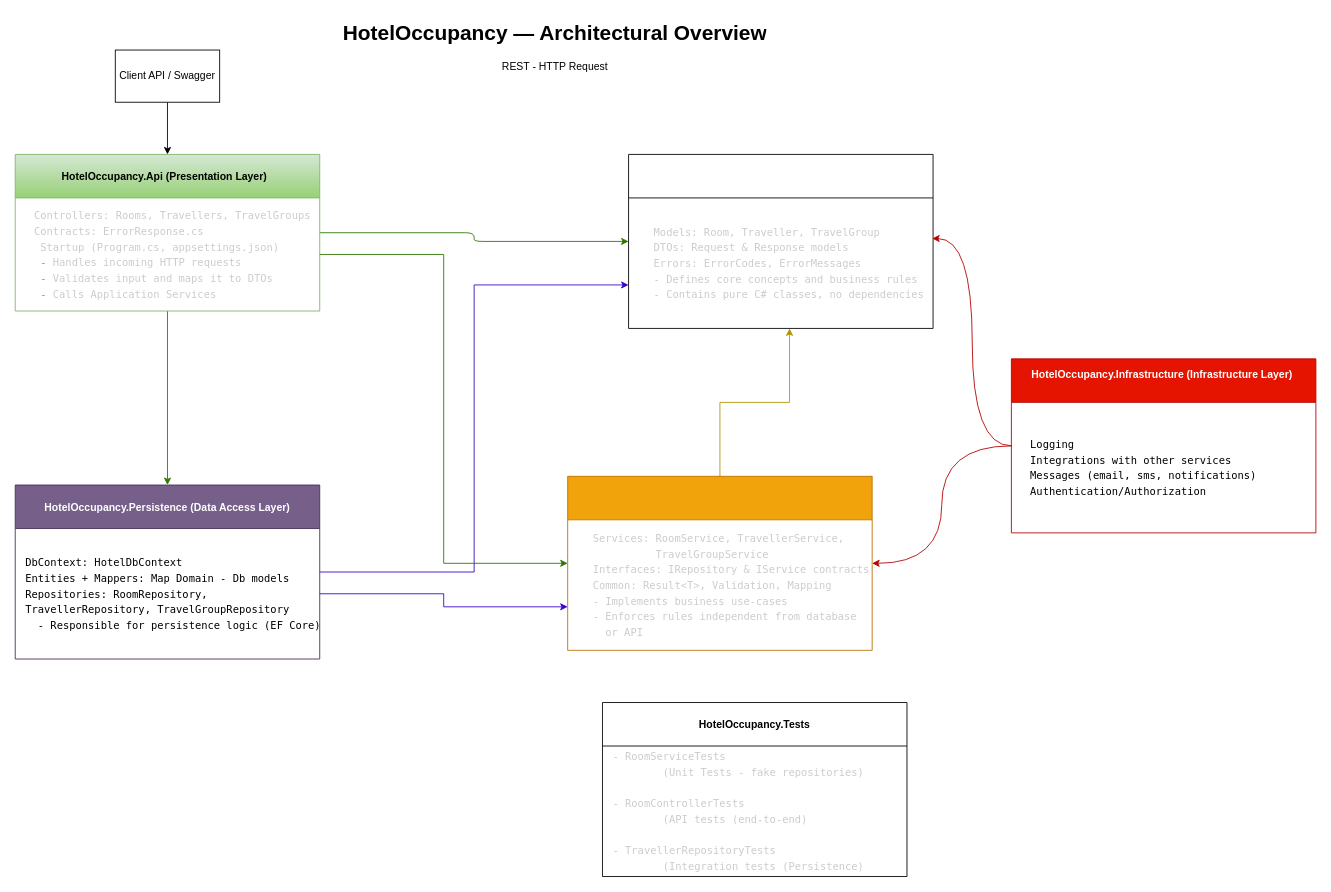
Some shapes in this 1331 by 892 pixel diagram are drawn without their labels. Here are the shapes that lost their labels. From the top down, the box of each, then its label:
(628, 154, 933, 328): HotelOccupancy.Domain.Models (Domain Layer)
(567, 475, 872, 650): HotelOccupancy.Application (Business Logic Layer)
